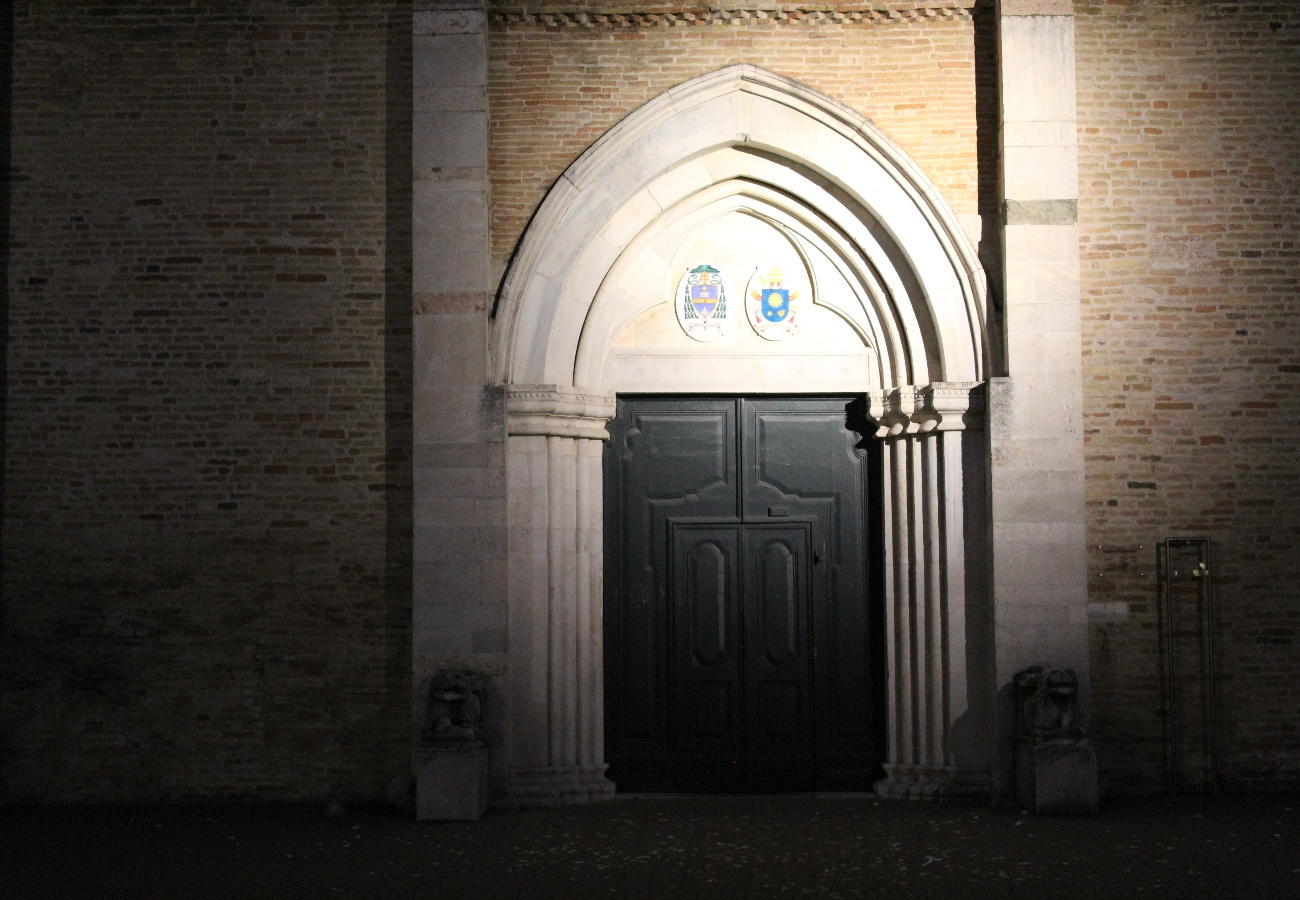Cattedrale Santa Maria Assunta: (410, 7, 1076, 829)
